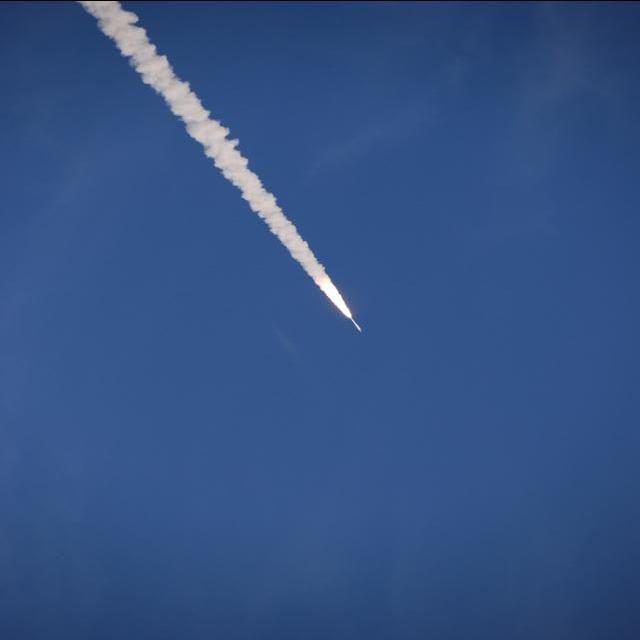missile: (347, 316, 365, 333)
